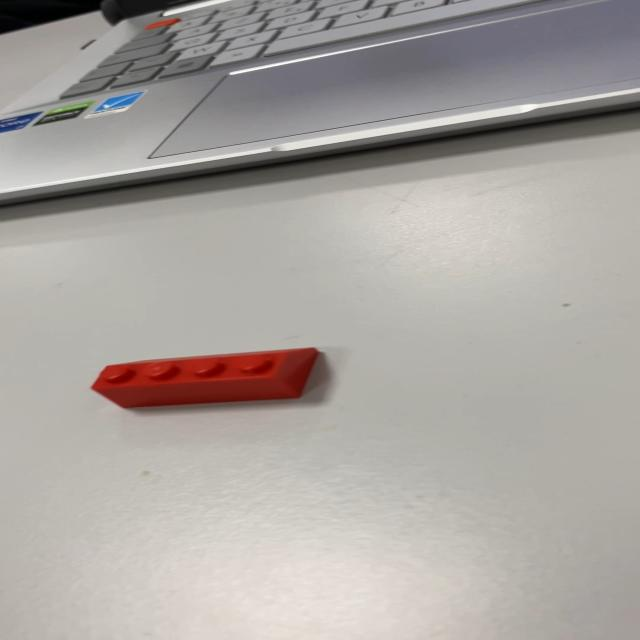P4x2x1: (89, 346, 320, 409)
